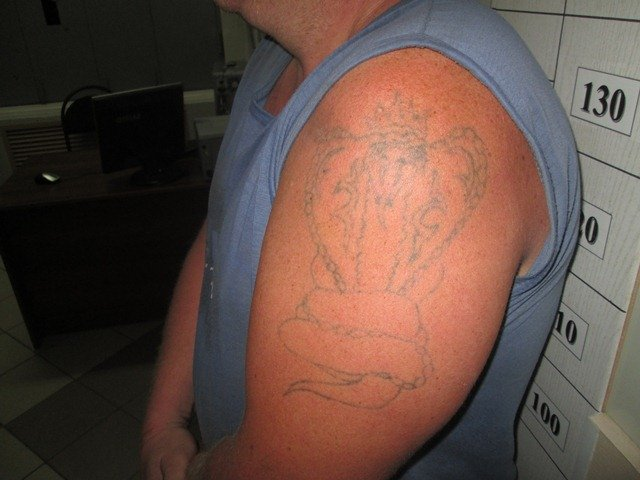tatu7_zmeya: (302, 98, 496, 413)
